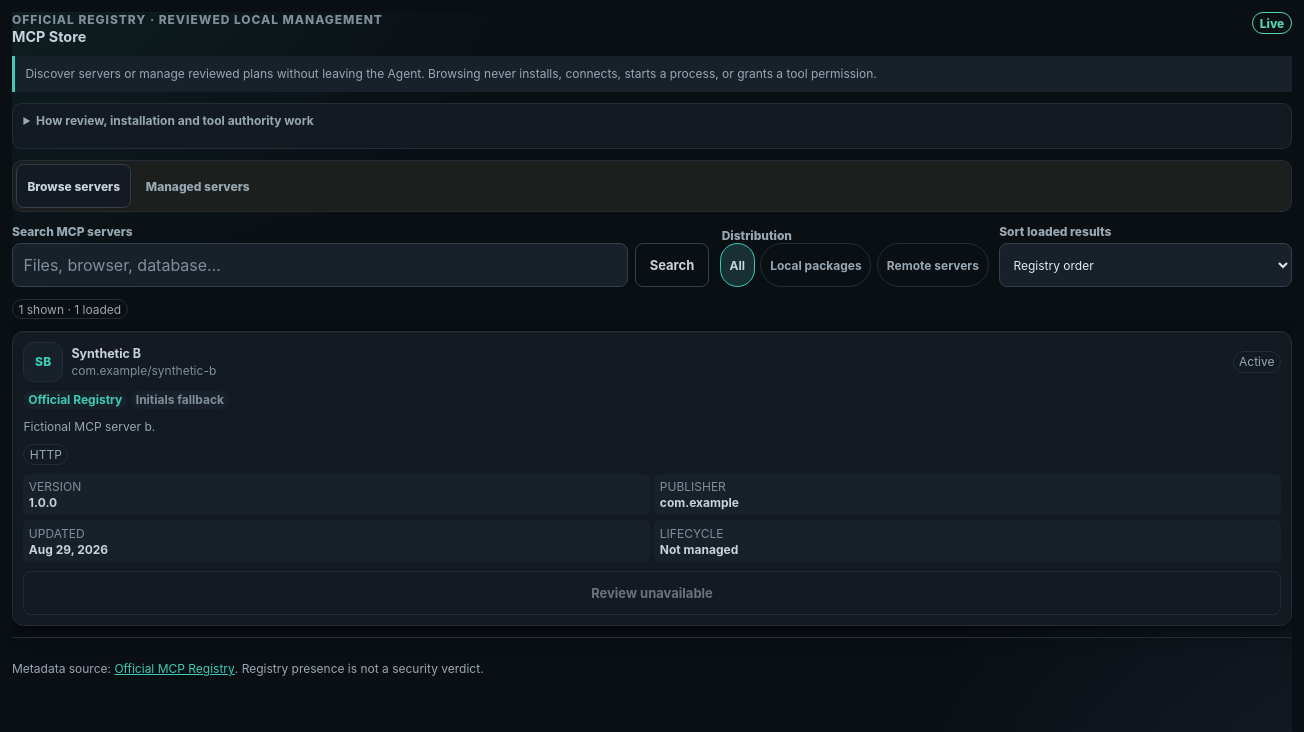
Test: AgentMcpStorePanel › distinguishes search-empty and filter-empty states and gives direct recovery
Expected: the text "Synthetic B" is shown, x1=71 y1=346 x2=141 y2=361
Type "missing example" into the search field labelled "Search MCP servers" at (320, 265), box x1=12 y1=243 x2=628 y2=287
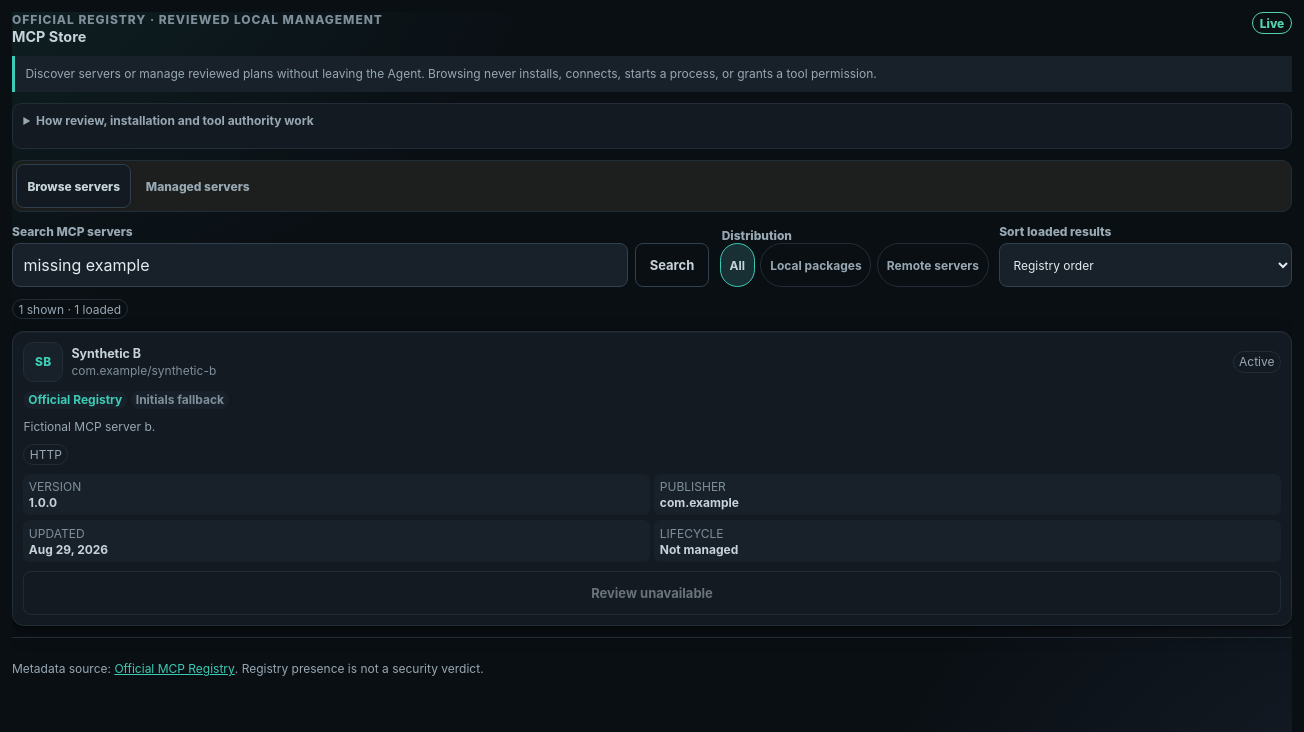
Click the button "Search" at (672, 265), box x1=635 y1=243 x2=709 y2=287
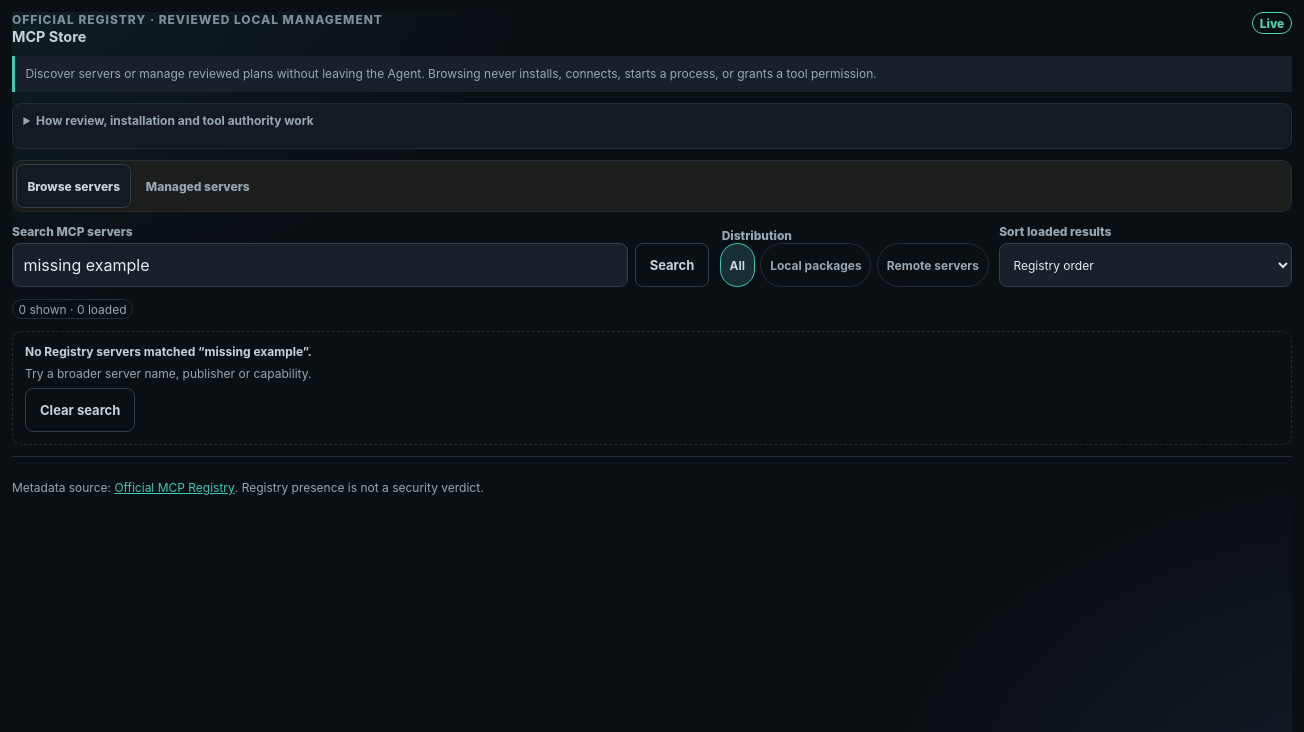
Expected: the text "No Registry servers matched “missing example”." is shown, x1=25 y1=344 x2=312 y2=359
Click the button "Clear search" at (80, 410), box x1=25 y1=388 x2=135 y2=432
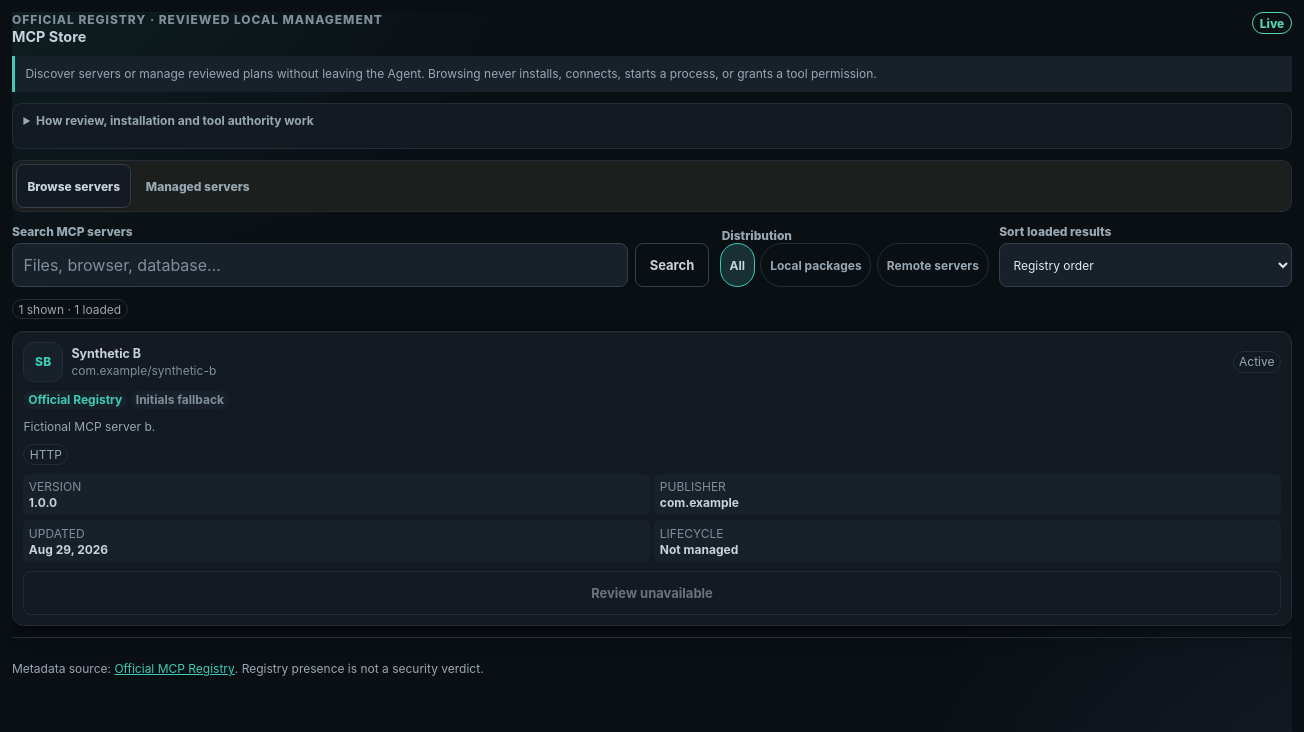
Expected: the text "Synthetic B" is shown, x1=71 y1=346 x2=141 y2=361
Click the radio button labelled "Local packages" at (816, 265), box x1=760 y1=243 x2=871 y2=287
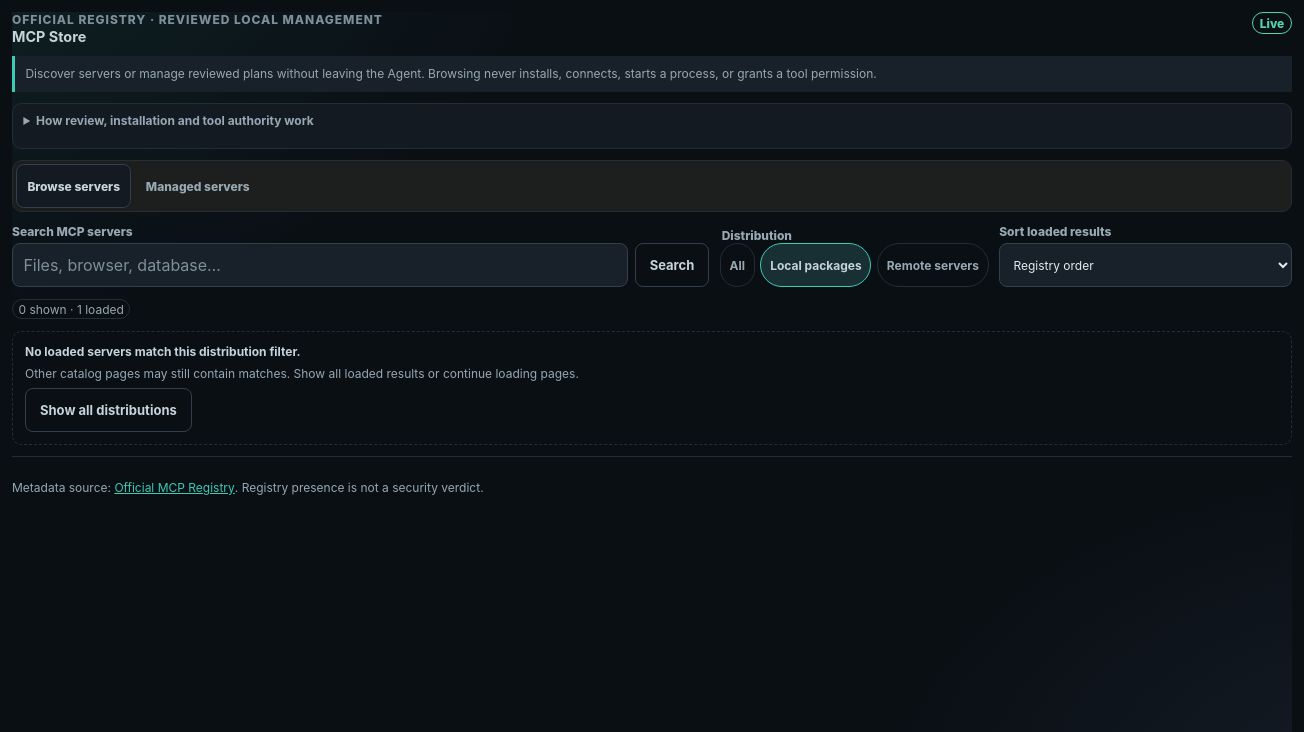
Expected: the text "No loaded servers match this distribution filter." is shown, x1=25 y1=344 x2=301 y2=359
Click the button "Show all distributions" at (108, 410), box x1=25 y1=388 x2=192 y2=432
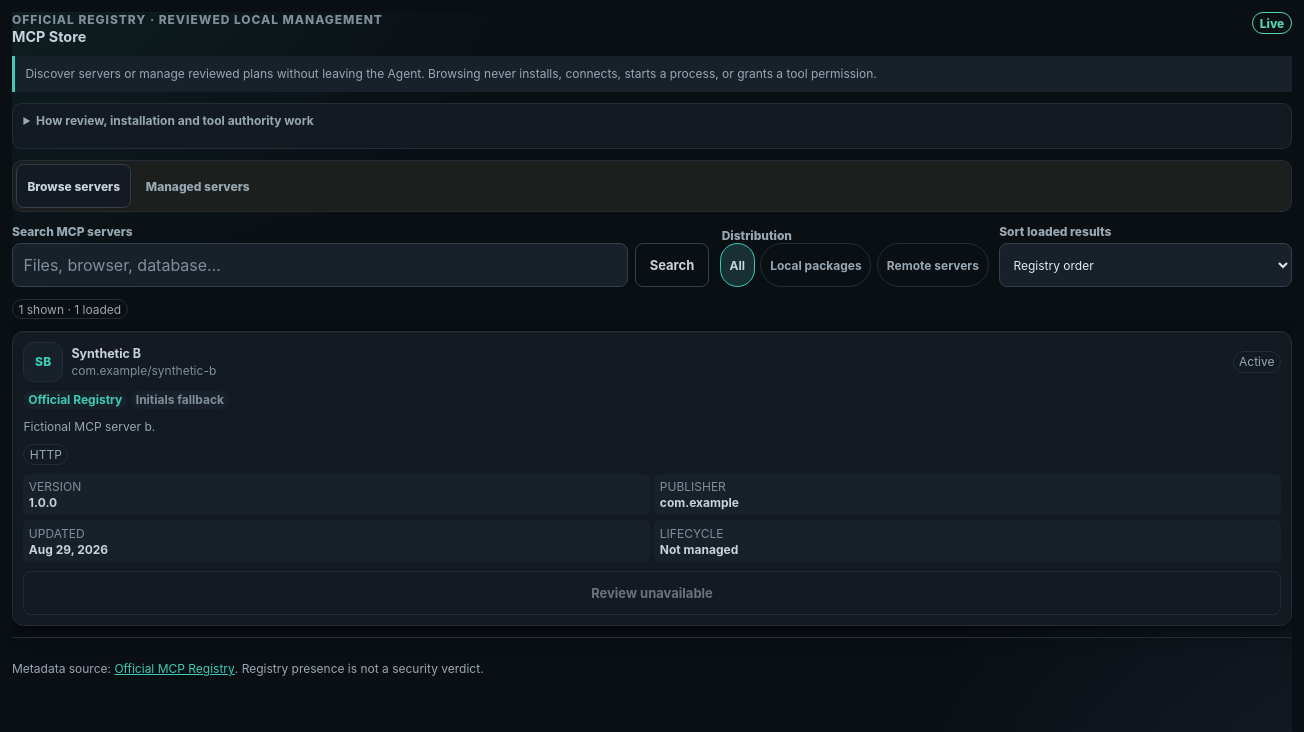
Expected: the text "Synthetic B" is shown, x1=71 y1=346 x2=141 y2=361
Expected: the radio button labelled "All" is checked, x1=720 y1=243 x2=755 y2=287
